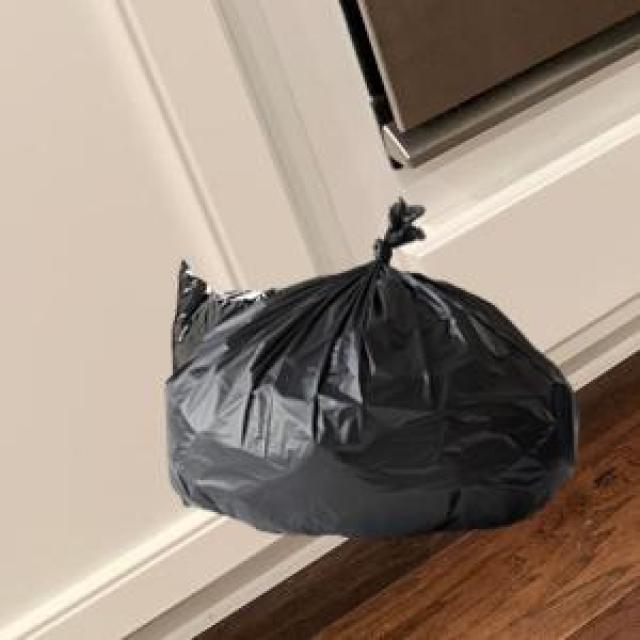Trashbag: (157, 196, 583, 546)
